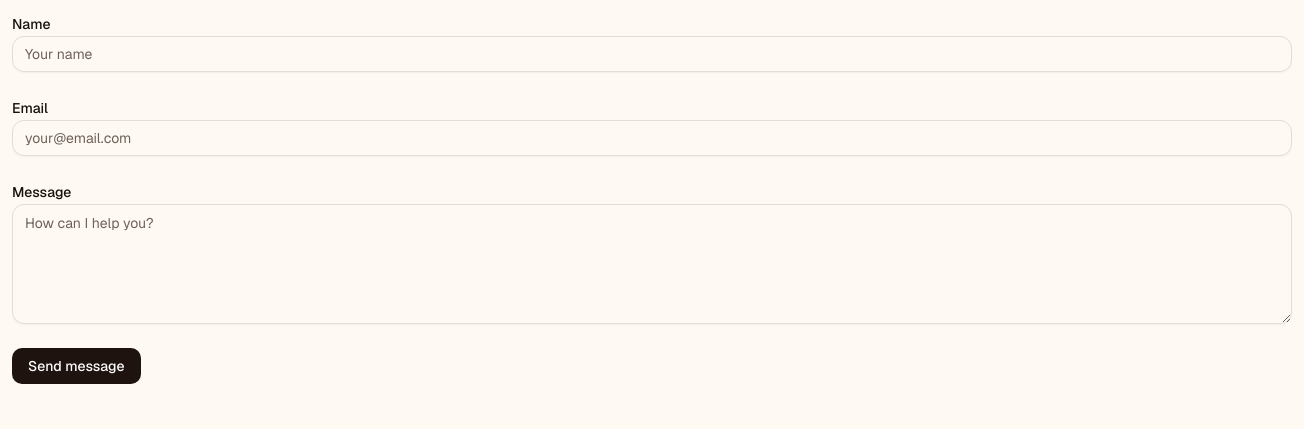
Test: ContactForm › email format validation (Requirement 8.2) › clears the invalid email error once a valid email is submitted
This screenshot has width=1304, height=429.
Type "Jane" into the field labelled "Name".
click(652, 54); type("Jane")  # box left=12, top=36, right=1292, bottom=72
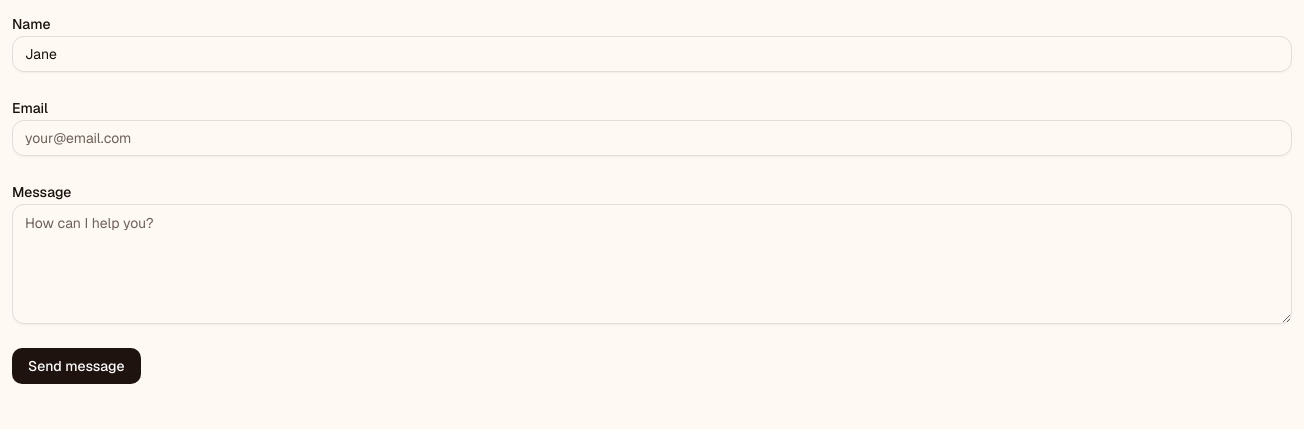
Type "not-an-email" into the field labelled "Email".
click(652, 138); type("not-an-email")  # box left=12, top=120, right=1292, bottom=156
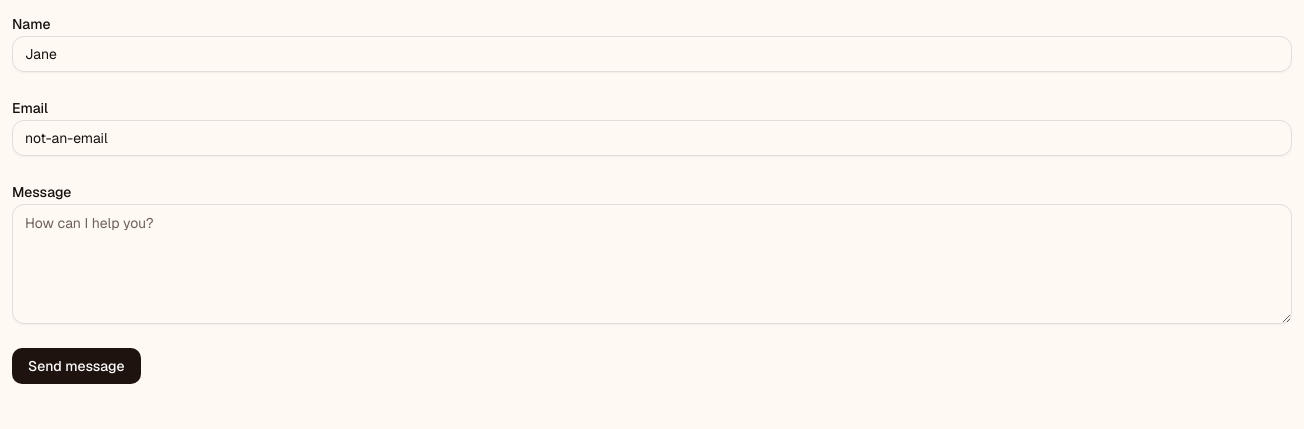
Type "This is a valid message body with enough length." into the text box labelled "Message".
click(652, 264); type("This is a valid message body with enough length.")  # box left=12, top=204, right=1292, bottom=324
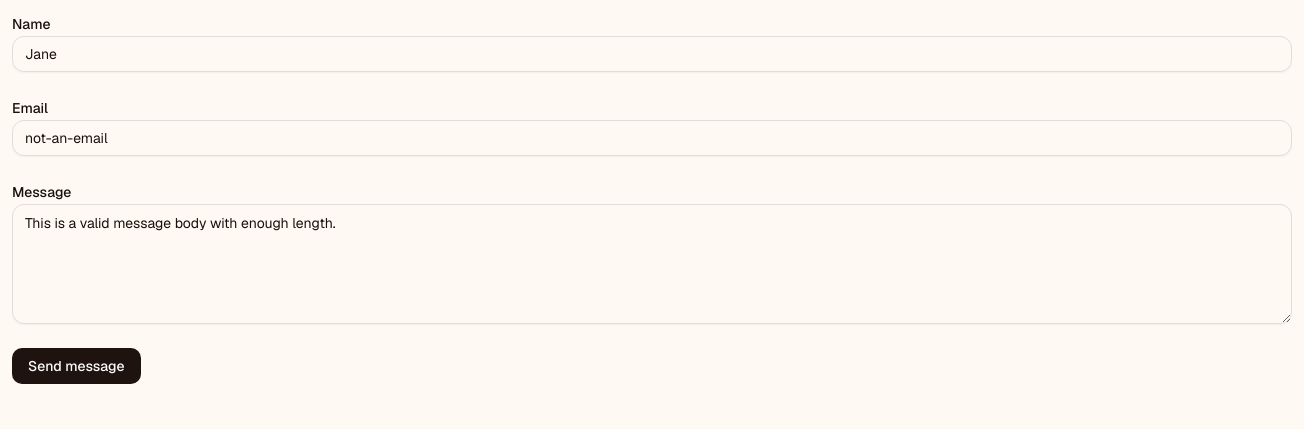
Click the button "Send message".
click(76, 366)  # box left=12, top=348, right=140, bottom=384
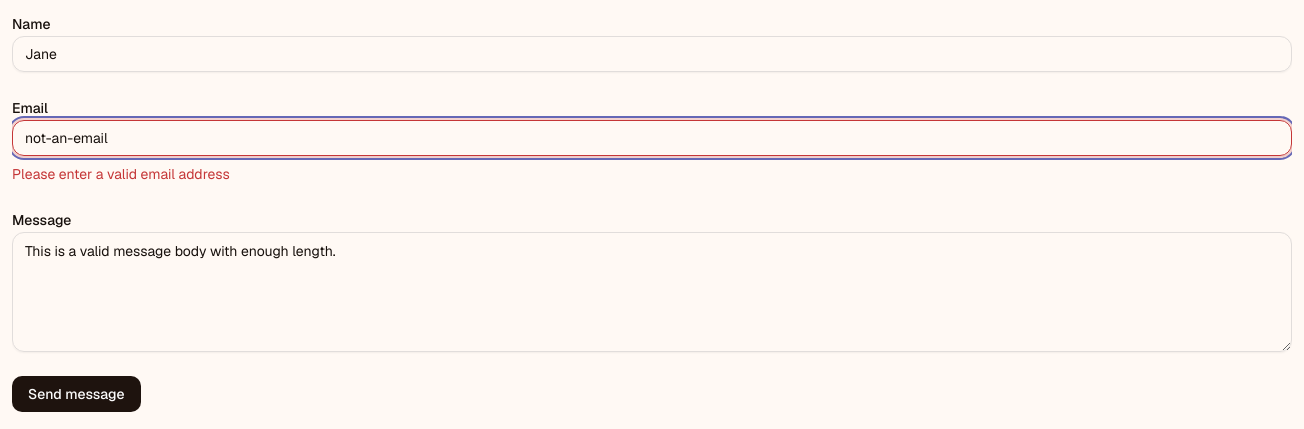
Now the text "Please enter a valid email address" is shown, box left=12, top=165, right=230, bottom=183
Replace the text in the field labelled "Email" with "jane@example.com" at x=652, y=138, box left=12, top=120, right=1292, bottom=156
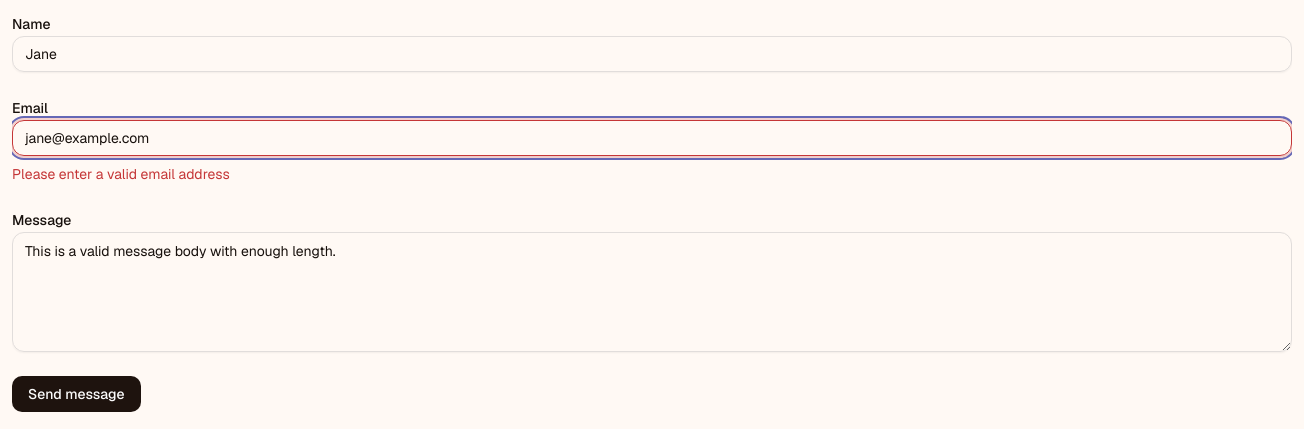
Click the button "Send message".
click(76, 394)  # box left=12, top=376, right=140, bottom=412
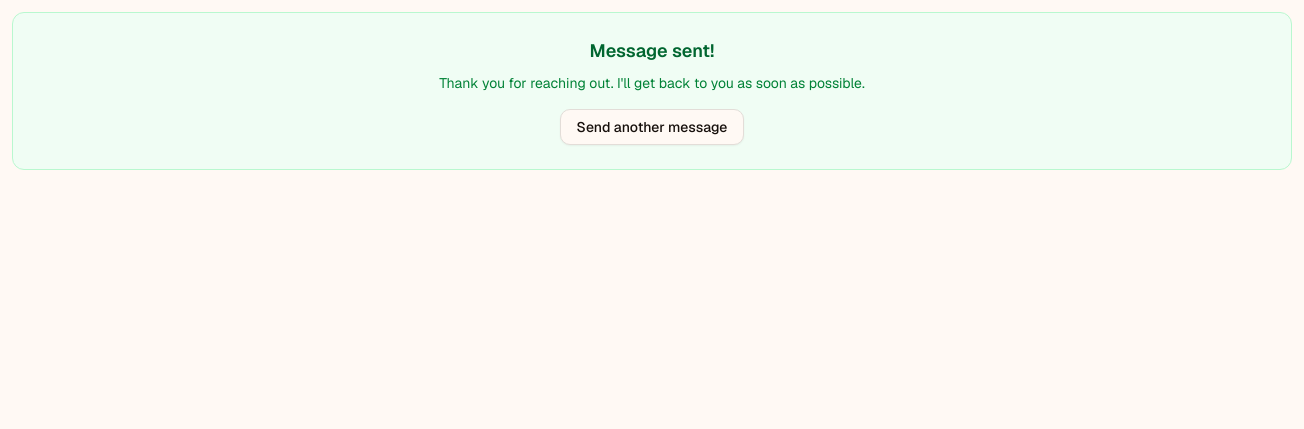
Now the text "Please enter a valid email address" is gone
